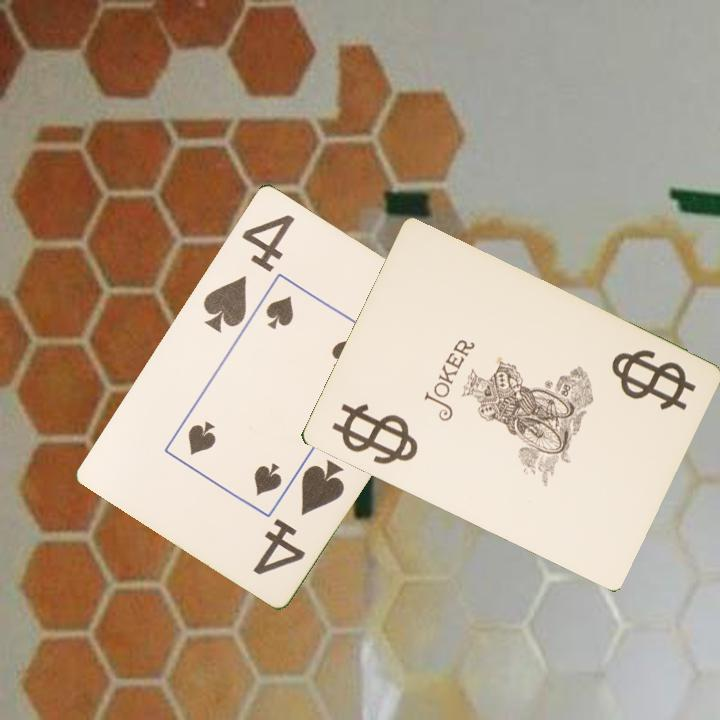4s: (199, 210, 298, 335), (249, 454, 348, 578)
JK: (607, 346, 698, 414), (343, 412, 414, 459)
